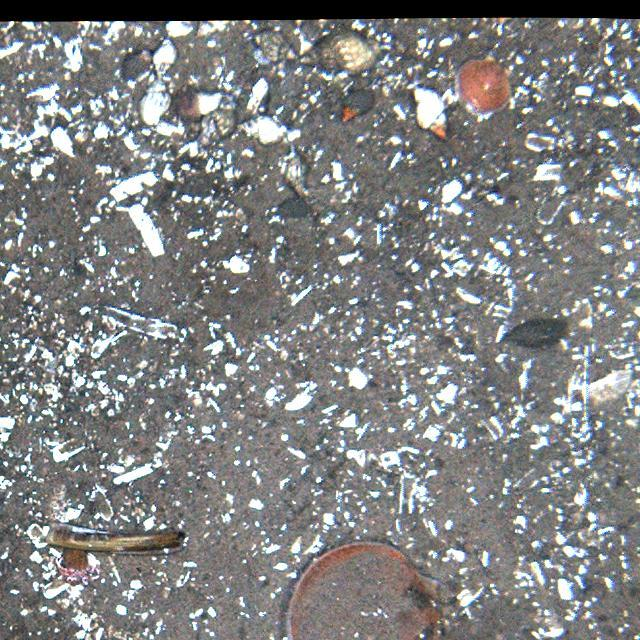whelk: (302, 33, 388, 73)
